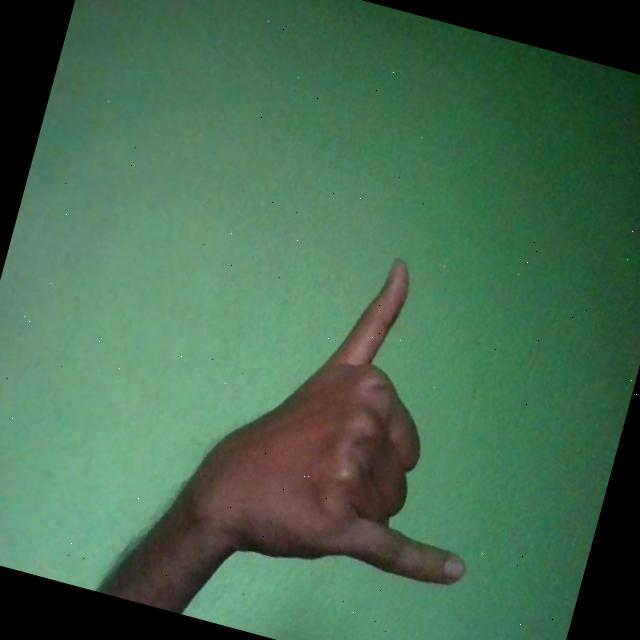Call Me: (170, 219, 538, 608)
